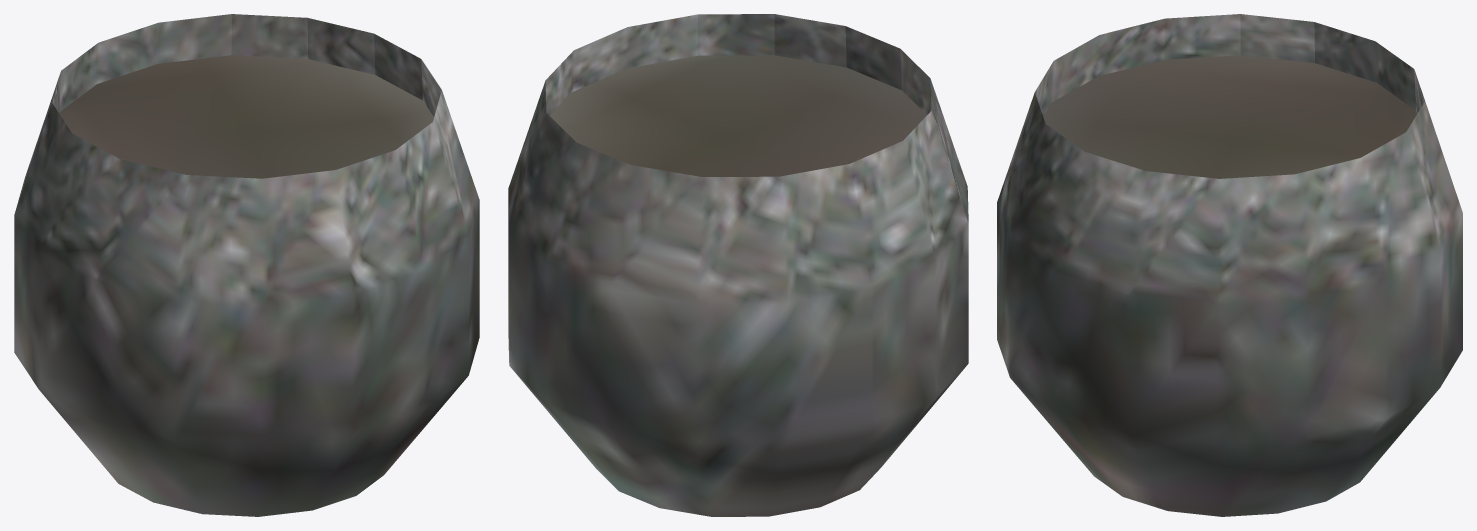
Rendered from celt_temple_cauldron.dae.
3 renders of one model, left to right at view 1: azimuth 30°, elevation 25°; view 2: azimuth 150°, elevation 25°; view 3: azimuth 270°, elevation 25°, orthographic.
Visible parts, largest first — view 1: propnew; view 2: propnew; view 3: propnew.
Boxes of the visible parts, <box> form: propnew: <box>14,14,479,516</box>; propnew: <box>508,14,968,516</box>; propnew: <box>997,14,1462,516</box>.
Bounding box in the file's own units: 1.46 × 1.39 × 1.46.
